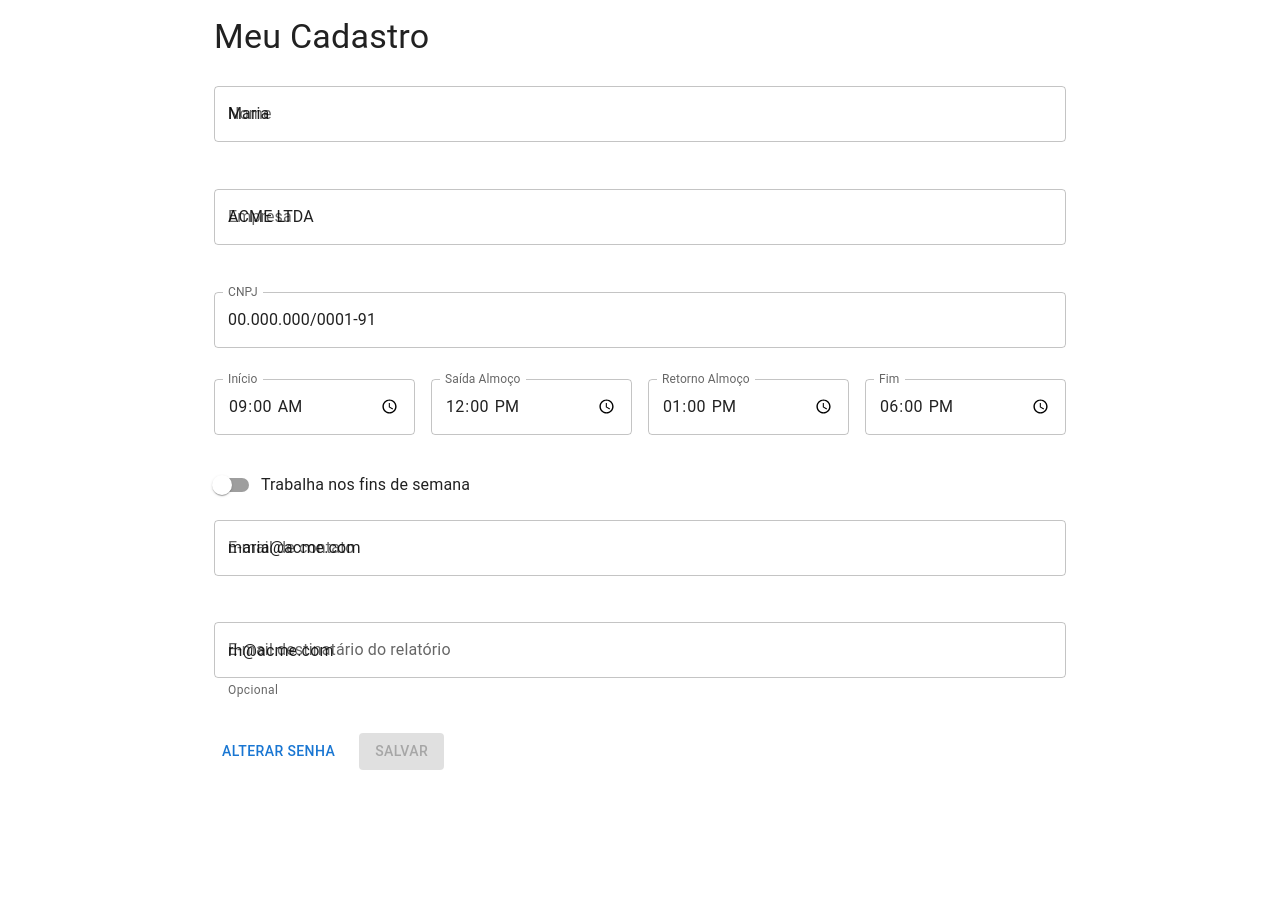
Test: CadastroPage › 422 do PUT com field body.empresa_cnpj exibe alert
Replace the text in the field labelled "Nome" with "X". click: (640, 114)
box: [214,86,1066,142]
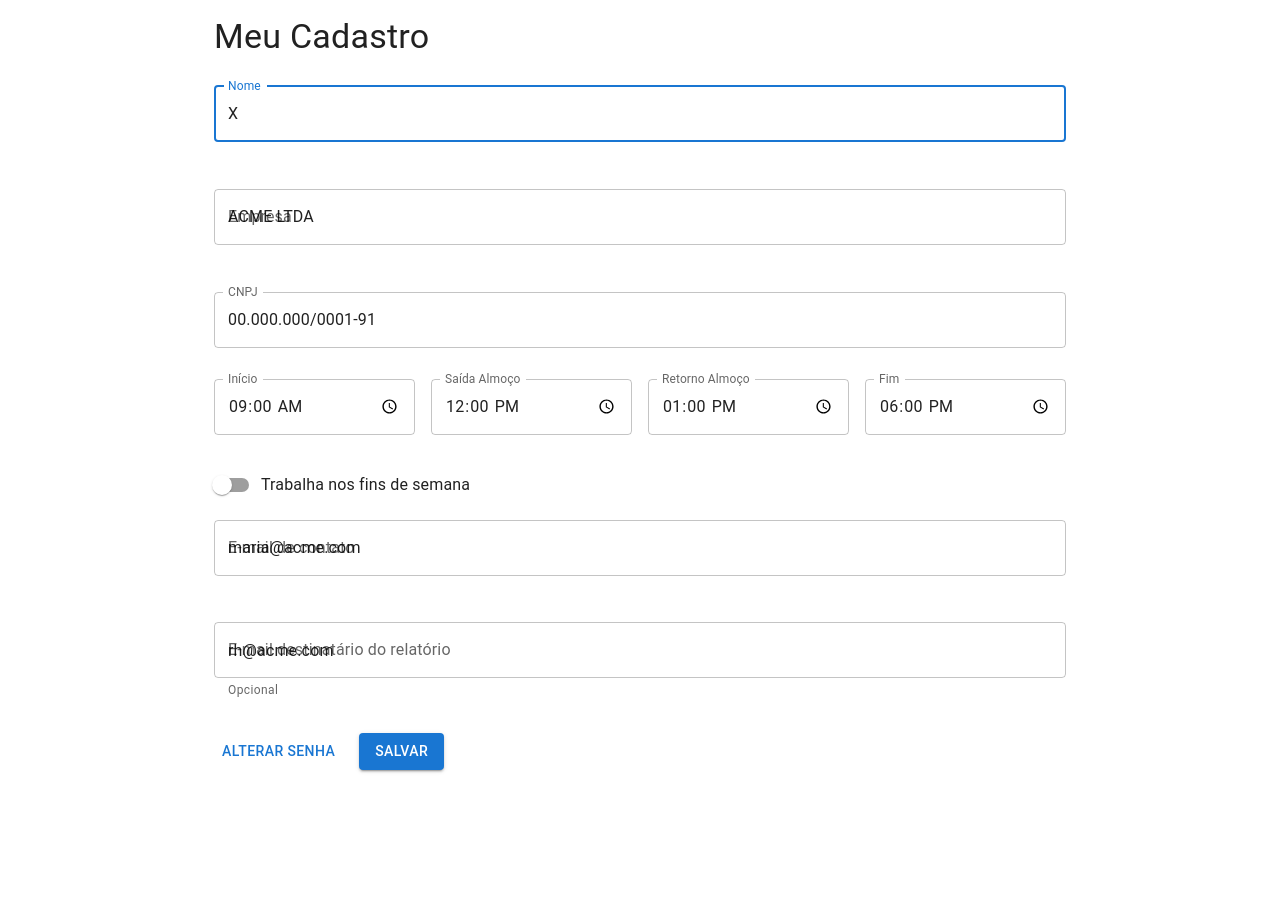
Click the button "Salvar". click: (402, 752)
box: [359,733,444,770]
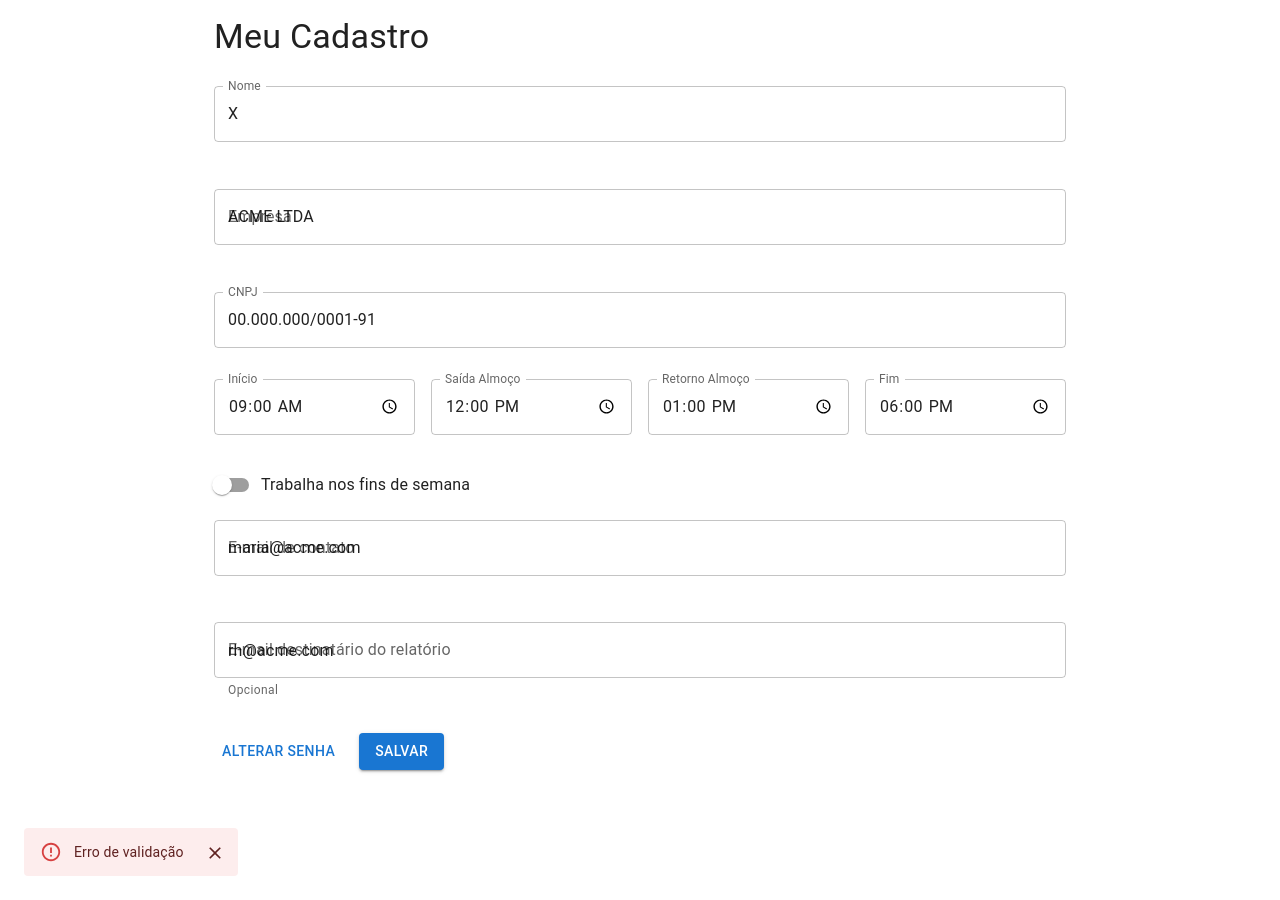
Check: the message reads "Erro de validação", box [74,844,184,860]
